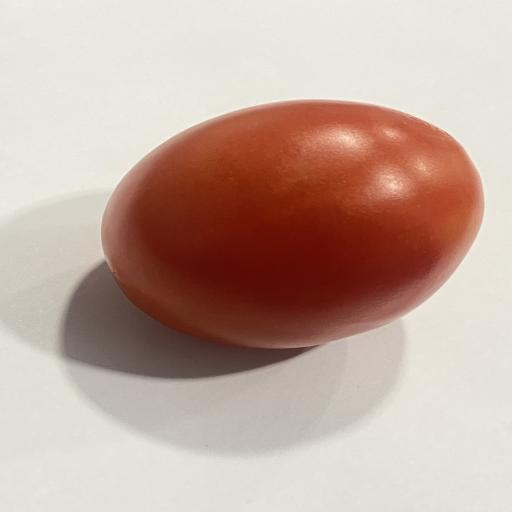ripe: (102, 100, 483, 348)
